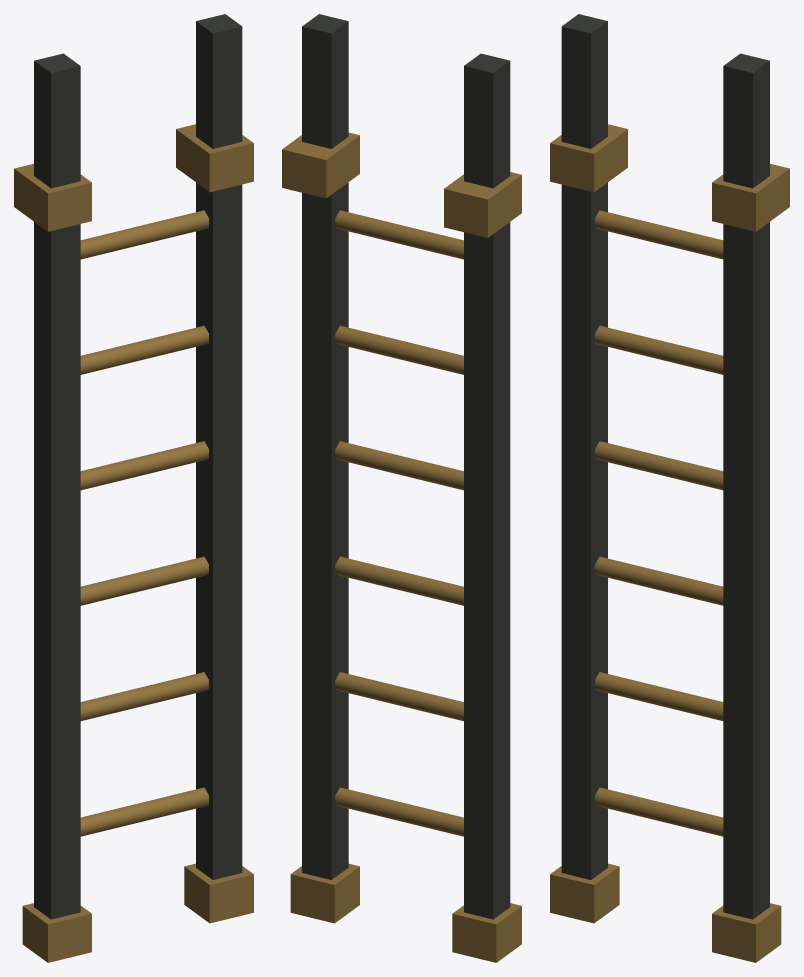
File: ladder.glb
3 views of the same model, side by side, from view 1: azimuth 30°, elevation 25°; view 2: azimuth 150°, elevation 25°; view 3: azimuth 330°, elevation 25° (orthographic).
Parts seen in each view (by area): view 1: ladder; view 2: ladder; view 3: ladder.
Part boxes in pixels (x1=…): ladder: x1=14, y1=14, x2=253, y2=962; ladder: x1=282, y1=14, x2=521, y2=962; ladder: x1=550, y1=14, x2=789, y2=962.
Size of the model in its own units: 0.56 by 2.3 by 0.16.
